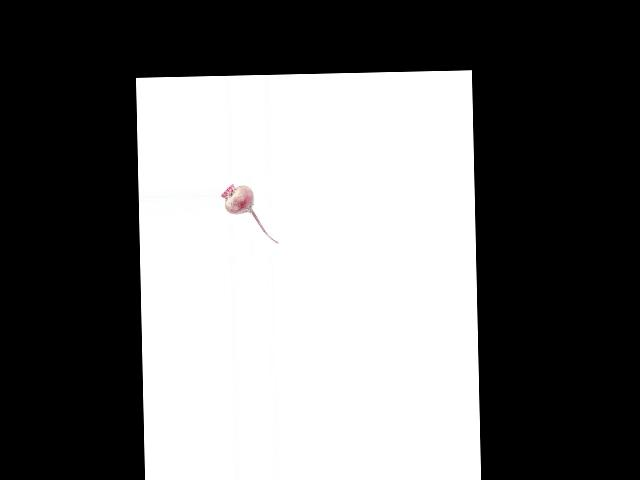beet: (220, 183, 278, 245)
